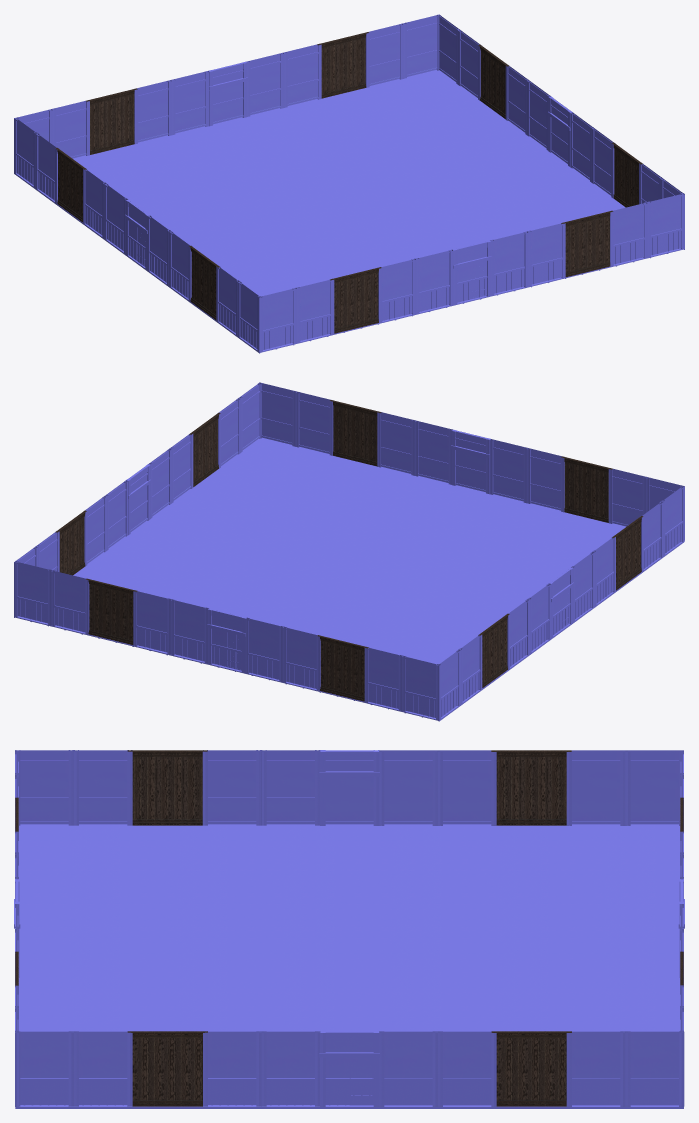
Rendered from JSmallFloorQuad.fbx.
3 views of the same model, one above another, from view 1: azimuth 30°, elevation 25°; view 2: azimuth 150°, elevation 25°; view 3: azimuth 270°, elevation 25° (orthographic). The views are drawn at different scales.
Parts seen in each view (by area): view 1: Wall_D__1__2, Wall_D__2__6, Wall_D_5, Wall_D__2__2, Wall_D__3__2, Wall_D__1__3, Wall_D__3__7, Wall_D__3__6, Wall_D__1__7, Wall_D__2__7, Wall_D_11, Wall_D_10 (+44 smaller); view 2: Wall_D__2__6, Wall_D__2__7, Wall_D__3__3, Wall_D__1__3, Wall_D__1__2, Wall_D__3__6, Wall_D_11, Wall_D__1__7, Wall_D_5, Wall_D__2__2, Wall_D__2__3, Wall_D__3__2 (+43 smaller); view 3: Wall_D__1__1, Wall_D__1_, Wall_D__2__5, Wall_D__3__5, Wall_D_2, Wall_D__2__1, Wall_D__3_, Wall_D_8, Wall_D__2_, Wall_D__1__5, Wall_D__3__4, Wall_D__2__4 (+20 smaller).
Boxes of the visible parts, x1,y1,x2,y2 form: Wall_D__1__2: [365, 23, 403, 87]; Wall_D__2__6: [378, 258, 416, 322]; Wall_D_5: [170, 71, 209, 135]; Wall_D__2__2: [283, 44, 321, 107]; Wall_D__3__2: [246, 52, 284, 116]; Wall_D__1__3: [134, 80, 171, 144]; Wall_D__3__7: [646, 193, 684, 257]; Wall_D__3__6: [414, 249, 453, 313]; Wall_D__1__7: [527, 223, 565, 286]; Wall_D__2__7: [610, 202, 647, 266]; Wall_D_11: [490, 231, 528, 295]; Wall_D_10: [258, 288, 296, 351]; Wall_D__2__6: [526, 448, 564, 512]; Wall_D__2__7: [295, 391, 333, 455]; Wall_D__3__3: [402, 656, 440, 719]; Wall_D__1__3: [282, 626, 320, 690]; Wall_D__1__2: [51, 570, 89, 634]; Wall_D__3__6: [489, 439, 528, 503]; Wall_D_11: [414, 420, 452, 484]; Wall_D__1__7: [377, 412, 416, 475]; Wall_D_5: [245, 617, 283, 681]; Wall_D__2__2: [133, 591, 171, 654]; Wall_D__2__3: [364, 647, 403, 710]; Wall_D__3__2: [170, 599, 208, 663]; Wall_D__1__1: [202, 750, 261, 825]; Wall_D__1_: [566, 750, 625, 825]; Wall_D__2__5: [566, 1031, 625, 1106]; Wall_D__3__5: [625, 1031, 684, 1106]; Wall_D_2: [261, 750, 319, 825]; Wall_D__2__1: [74, 750, 132, 825]; Wall_D__3_: [379, 750, 437, 825]; Wall_D_8: [379, 1031, 437, 1106]; Wall_D__2_: [438, 750, 496, 825]; Wall_D__1__5: [438, 1031, 496, 1106]; Wall_D__3__4: [261, 1031, 320, 1106]; Wall_D__2__4: [203, 1031, 261, 1106].
Size of the model in its own units: 5017 by 626 by 5017.
4 materials, 4 textured.
